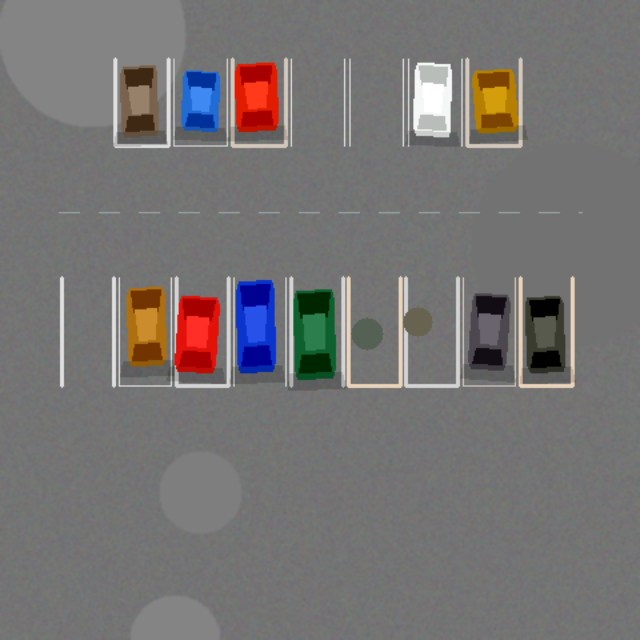space-empty: (61, 277, 113, 385), (348, 277, 400, 385), (405, 277, 457, 385), (349, 59, 403, 145), (291, 59, 344, 145)
space-occupied: (119, 277, 171, 385), (176, 277, 228, 385), (233, 277, 285, 385), (291, 277, 343, 385), (463, 277, 515, 385), (520, 277, 572, 385), (173, 59, 227, 145), (115, 59, 168, 145), (232, 59, 285, 145), (408, 59, 461, 145), (467, 59, 520, 145)
